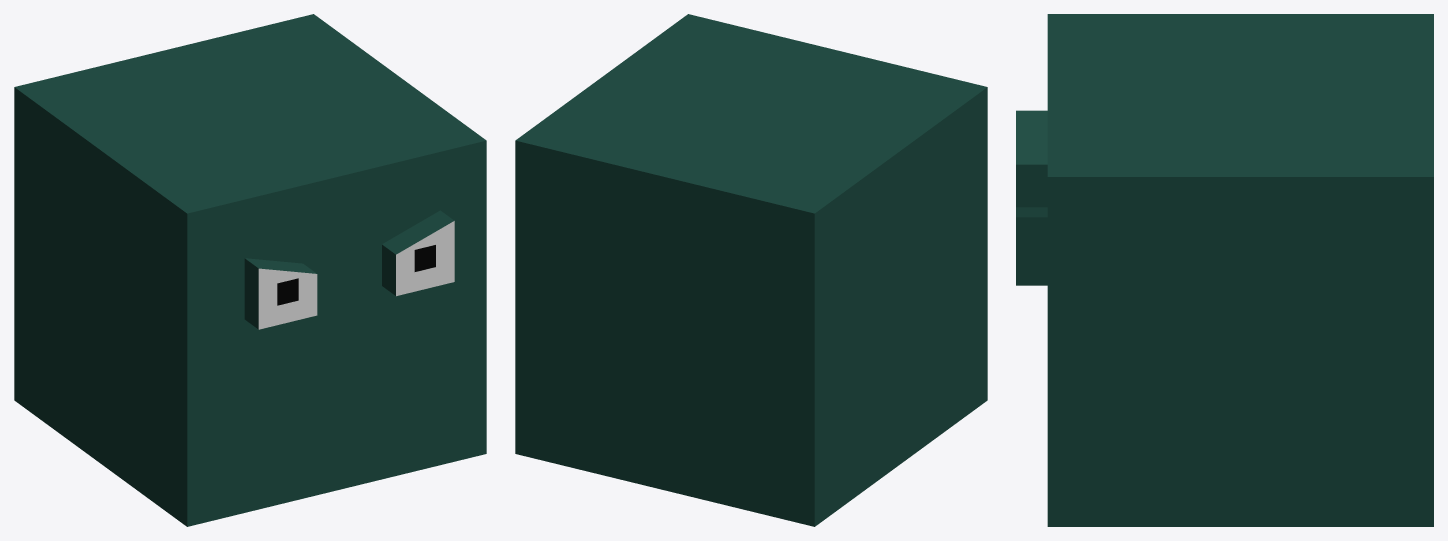
File: FisheyeBoss1.fbx
3 views of the same model, side by side, from view 1: azimuth 30°, elevation 25°; view 2: azimuth 150°, elevation 25°; view 3: azimuth 270°, elevation 25° (orthographic). The views are drawn at different scales.
Visible parts, largest first — view 1: Cube; view 2: Cube; view 3: Cube.
Boxes of the visible parts, left/top/right/bottom form: Cube: left=14, top=14, right=486, bottom=526; Cube: left=515, top=14, right=987, bottom=526; Cube: left=1016, top=14, right=1433, bottom=526.
Bounding box in the file's own units: 200 × 200 × 216.
